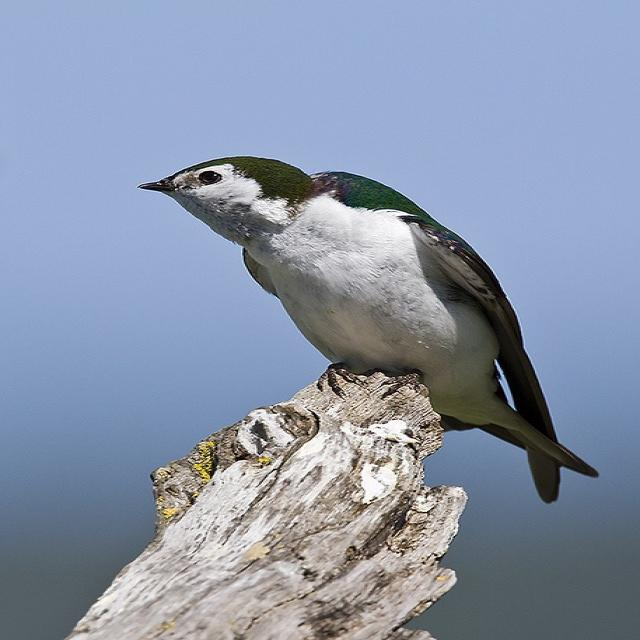bird: (127, 134, 609, 503)
